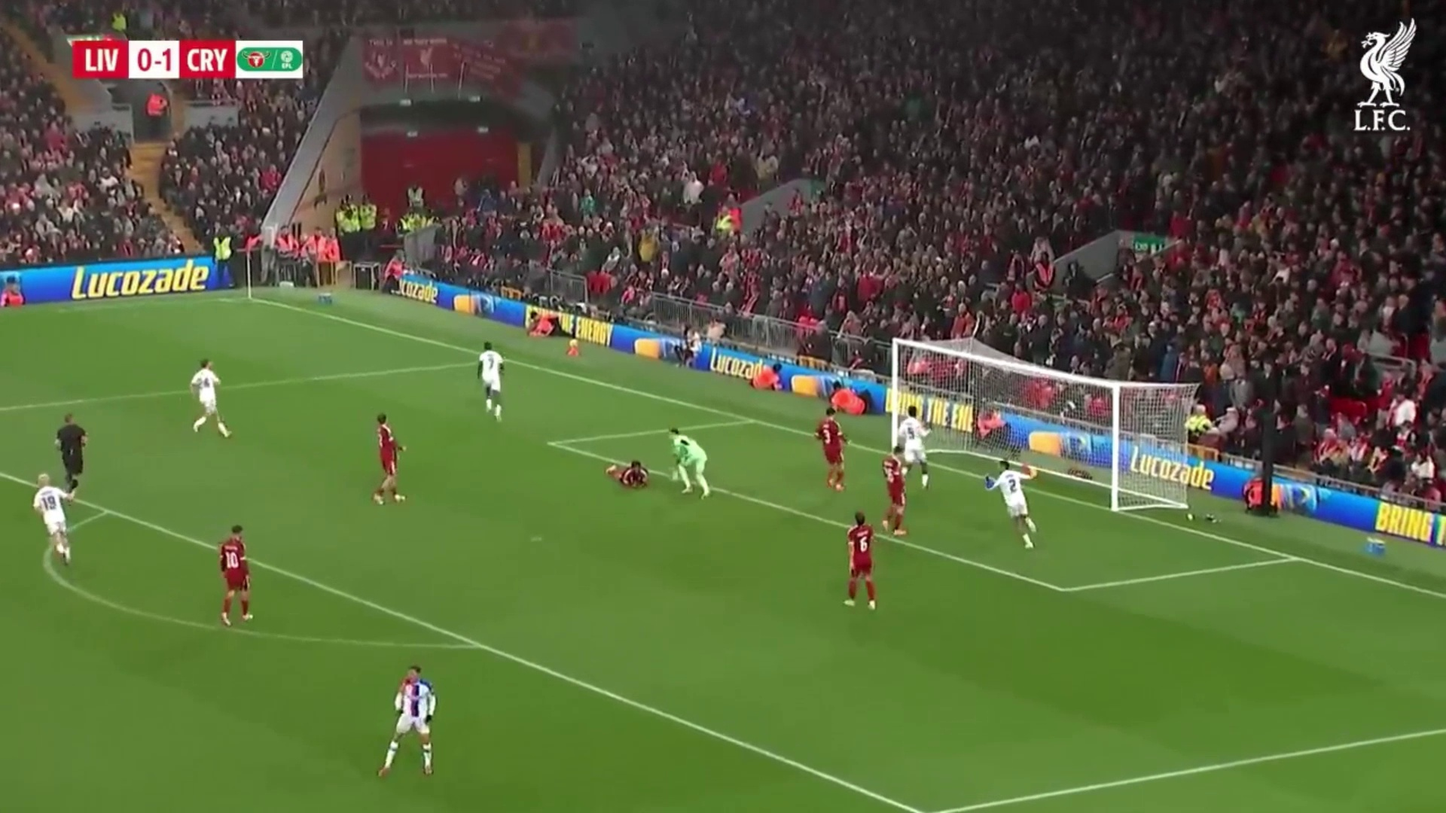player: (377, 664, 438, 780), (984, 462, 1038, 550), (218, 524, 254, 627), (32, 475, 73, 563), (843, 511, 879, 610), (189, 358, 232, 439), (372, 413, 405, 505), (670, 428, 711, 498), (817, 408, 849, 493), (55, 415, 88, 494), (477, 343, 506, 421), (881, 453, 909, 533), (900, 409, 928, 472)
